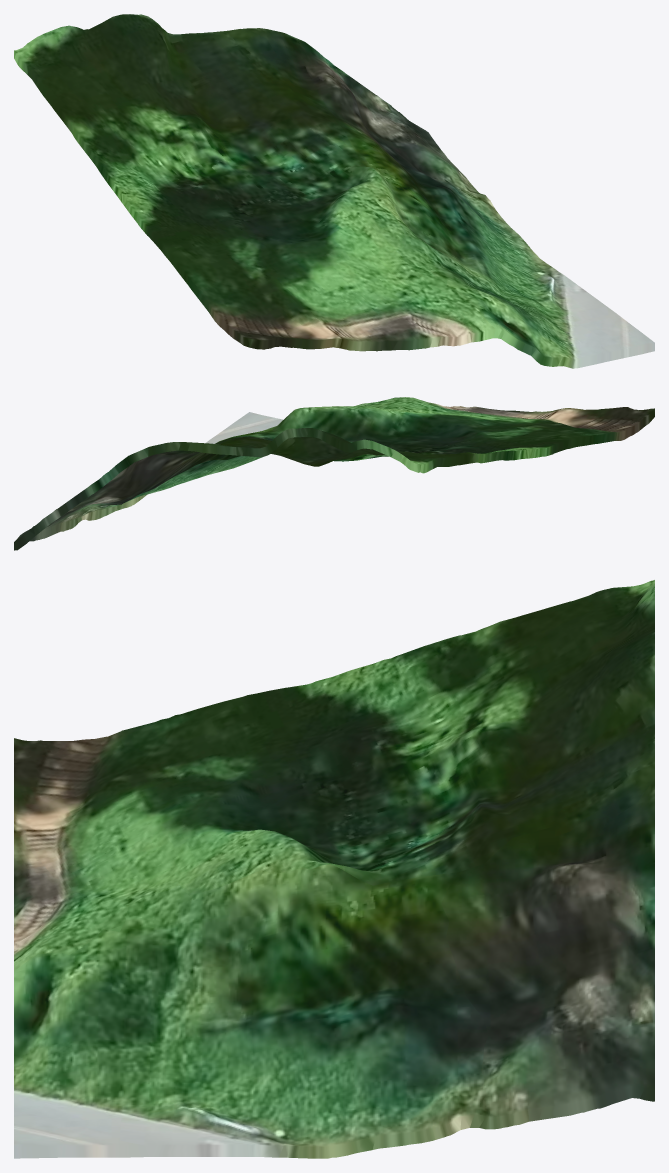
File: z20-167562-405172-h0-yup-uvflip-v3-world.glb
3 views of the same model, one above another, from view 1: azimuth 30°, elevation 25°; view 2: azimuth 150°, elevation 25°; view 3: azimuth 270°, elevation 25° (orthographic). The views are drawn at different scales.
Bounding box in the file's own units: 30.16 × 17 × 30.32.
1 material, 1 textured.
